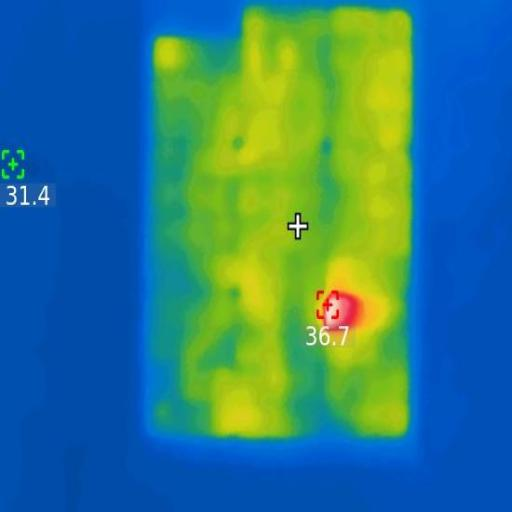hotspot: (312, 278, 372, 336)
